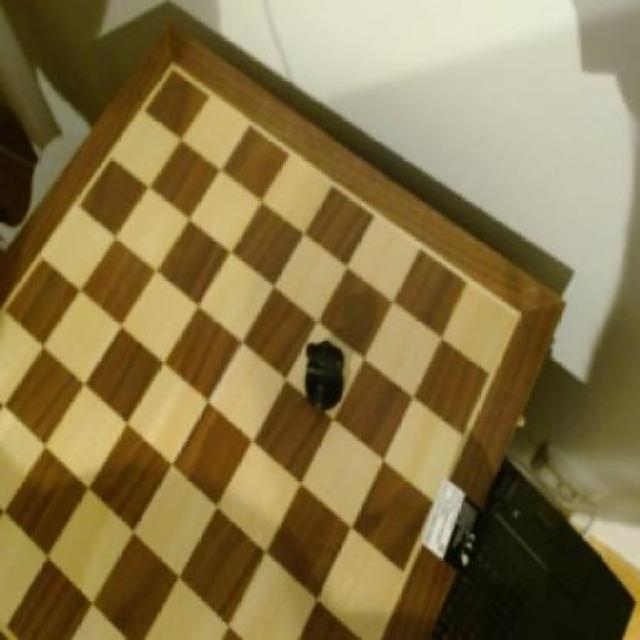black-king: (303, 331, 351, 422)
